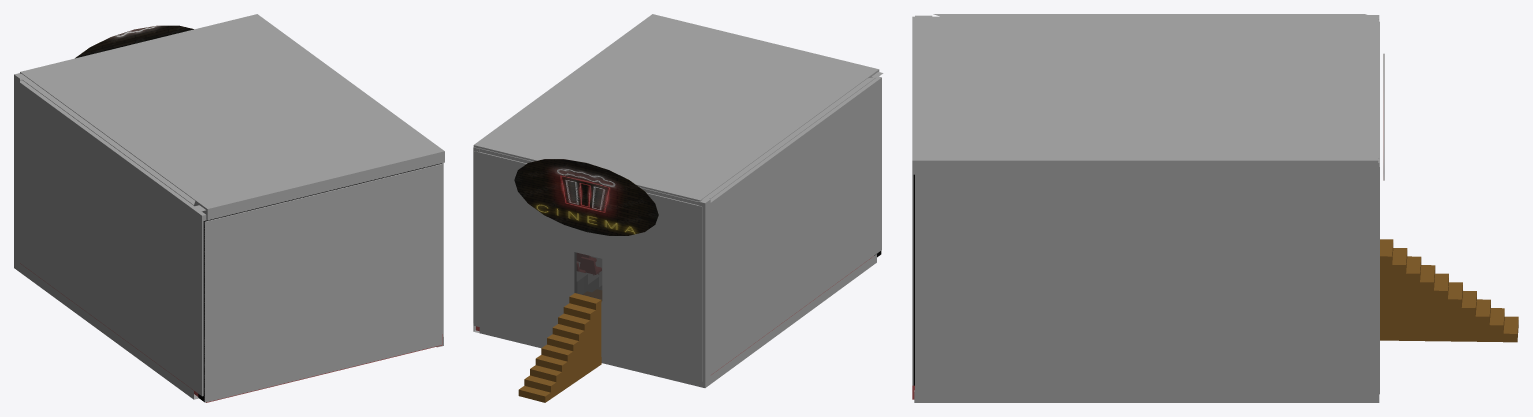
The model's file is Cinema.fbx.
3 renders of one model, left to right at view 1: azimuth 30°, elevation 25°; view 2: azimuth 150°, elevation 25°; view 3: azimuth 270°, elevation 25°, orthographic. The views are drawn at different scales.
Parts seen in each view (by area): view 1: pasted__pCube3 (×2), bsmntout:bsmntout:pCube2, bsmntout:bsmntout:pasted__pCube1, pCylinder1, pCube3, bsmntout1:bsmntout:pCube2; view 2: bsmntout:bsmntout:pCube2, pCube4, pasted__pCube3, pCylinder1, bsmntout:bsmntout:pasted__pCube1, Stairs1:boxstairccase, bsmntout:bsmntout:pCube3, pasted__pPlane1; view 3: bsmntout:bsmntout:pasted__pCube1, bsmntout:bsmntout:pCube2, Stairs1:boxstairccase.
Part boxes in pixels (x1,y1,x2,y2): pasted__pCube3 (×2): (20, 80, 442, 402); bsmntout:bsmntout:pCube2: (20, 14, 444, 220); bsmntout:bsmntout:pasted__pCube1: (14, 73, 443, 399); pCylinder1: (75, 25, 193, 58); pCube3: (198, 163, 441, 401); bsmntout1:bsmntout:pCube2: (20, 263, 442, 402); bsmntout:bsmntout:pCube2: (473, 14, 879, 205); pCube4: (473, 151, 702, 381); pasted__pCube3: (710, 76, 881, 374); pCylinder1: (514, 159, 658, 235); bsmntout:bsmntout:pasted__pCube1: (473, 72, 883, 387); Stairs1:boxstairccase: (518, 293, 601, 402); bsmntout:bsmntout:pCube3: (574, 252, 602, 300); pasted__pPlane1: (577, 256, 601, 298); bsmntout:bsmntout:pasted__pCube1: (914, 14, 1379, 402); bsmntout:bsmntout:pCube2: (912, 16, 1378, 174); Stairs1:boxstairccase: (1380, 239, 1518, 342).
Bounding box in the file's own units: 113 × 92.52 × 196.
